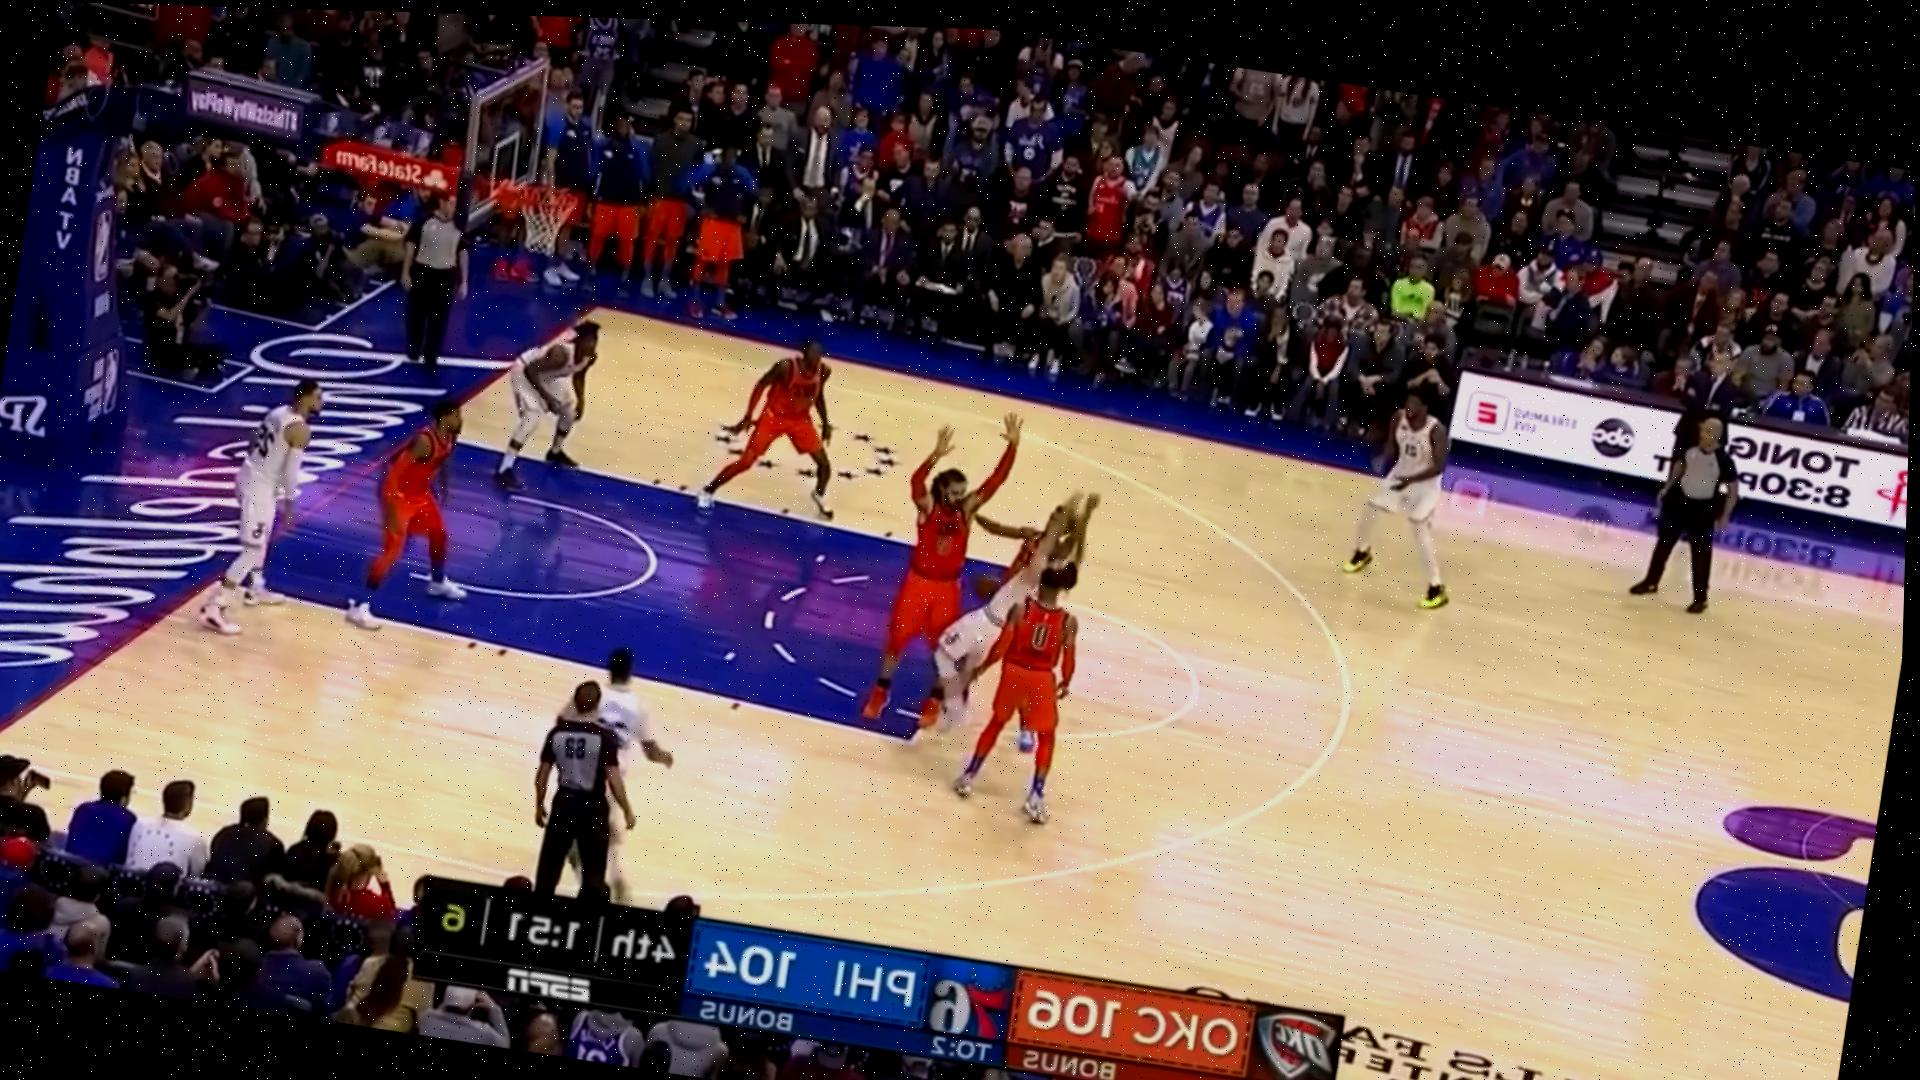foul: (802, 418, 1135, 796)
